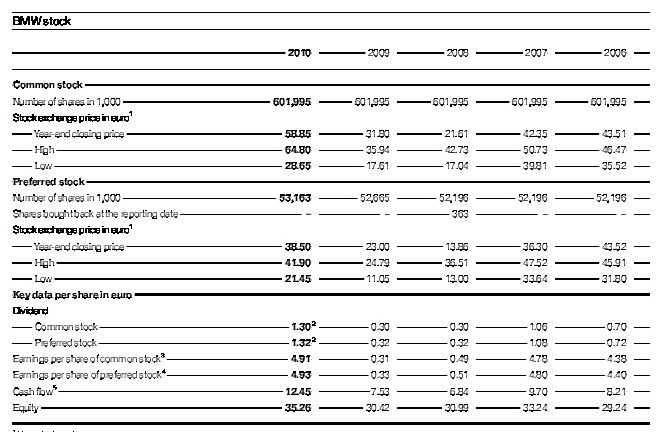table: (0, 0, 660, 432)
